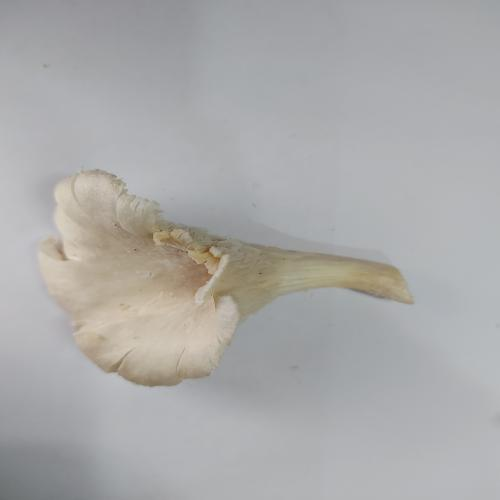Oyster Mushroom: (36, 167, 414, 387)
